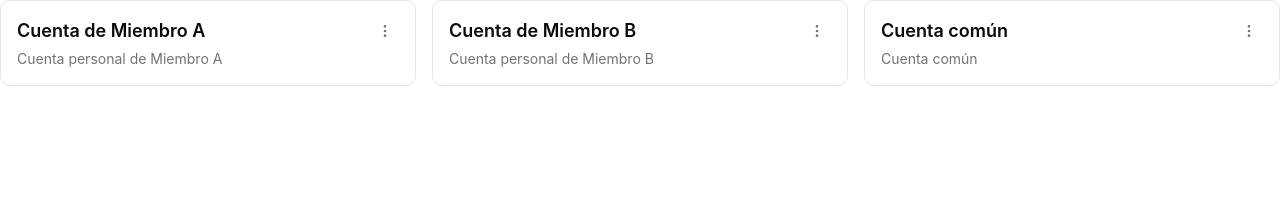
Test: AccountCardGrid › tarjeta personal: «Renombrar miembro» es el primer ítem y no existe «Renombrar cuenta»
This screenshot has width=1280, height=216.
Click the button named "Configuración de Cuenta de Miembro A". click: (385, 31)
box: [363, 9, 407, 53]
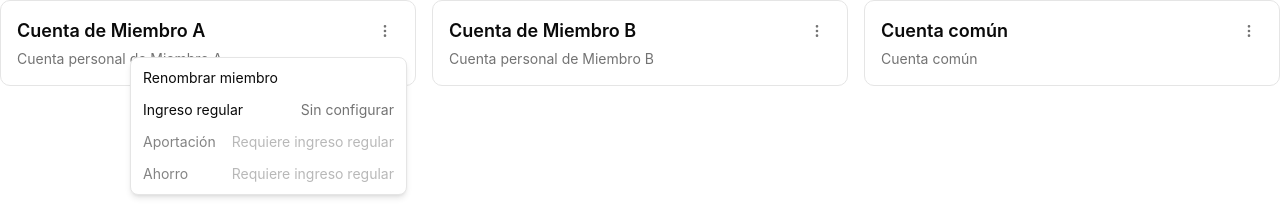
Check: the menu item "Renombrar miembro" is shown, box [143, 69, 278, 86]
